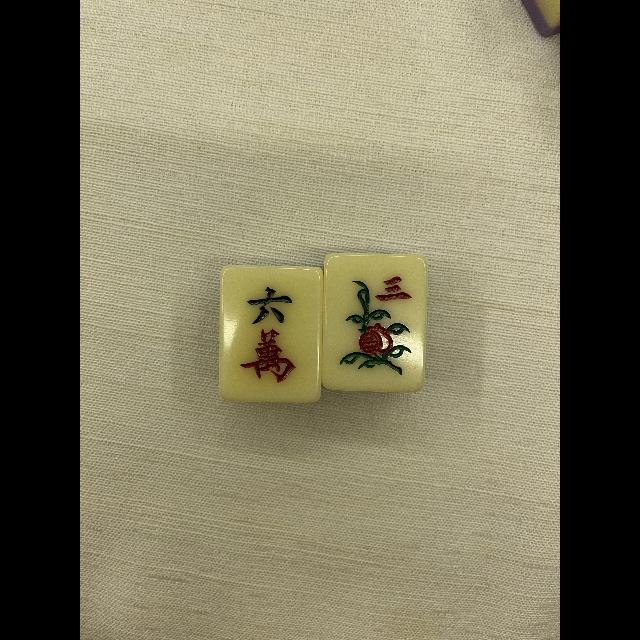c6: (220, 267, 320, 398)
s3-s: (324, 256, 424, 388)
